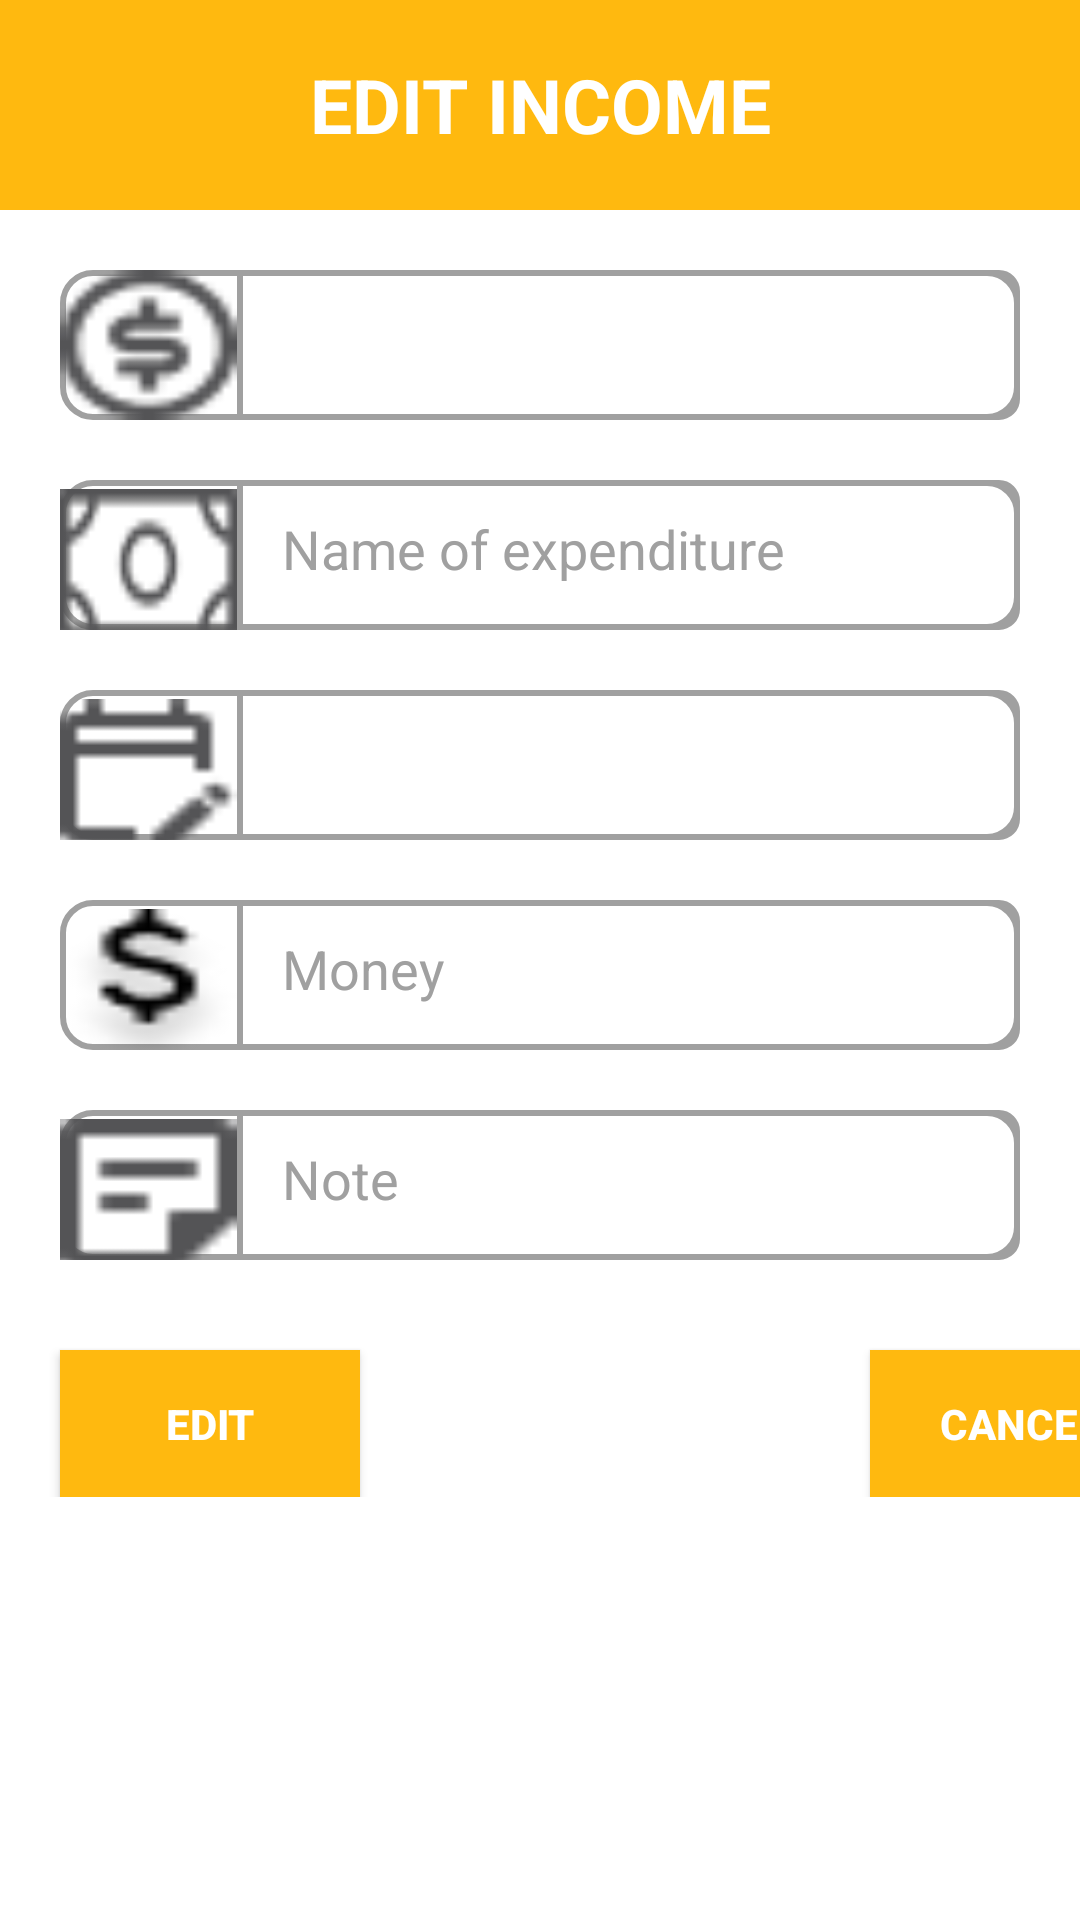

Where icons sit on this 1080px x 1920px app screen, as (x1, y1, x2, y2):
calendar: (60, 699, 237, 840)
coin: (60, 270, 237, 420)
dolar: (97, 909, 200, 1041)
money: (60, 489, 237, 630)
